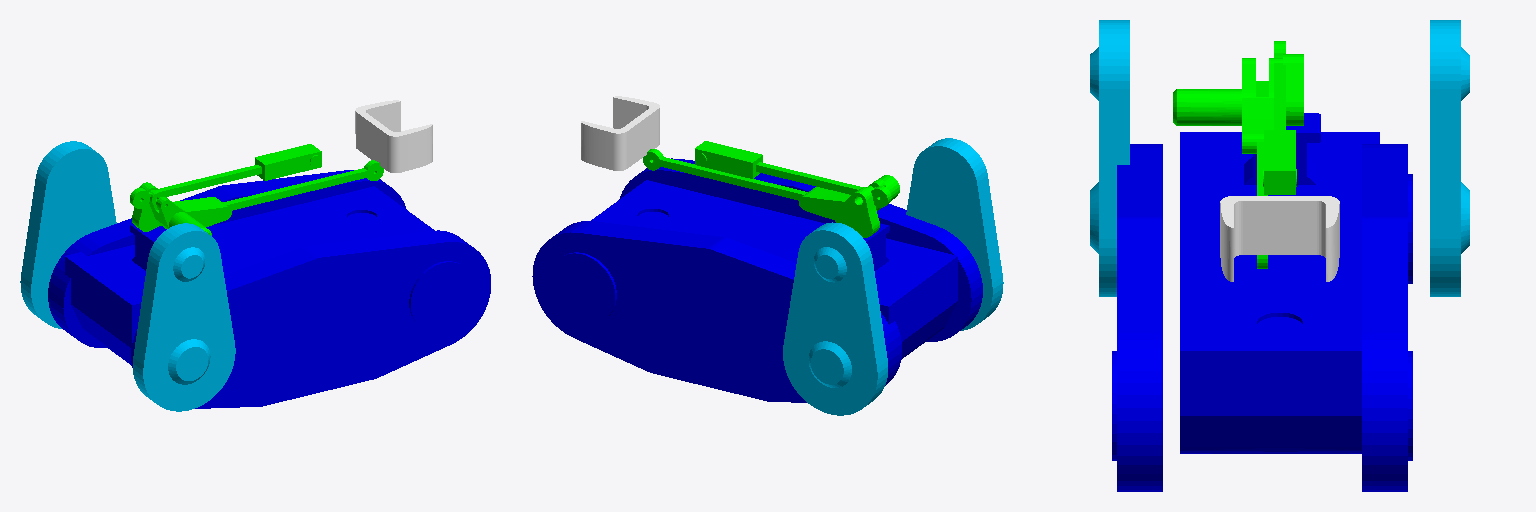
URDF robot description (rescue):
<?xml version="1.0" ?>
<robot name="rescue">

<material name="body">
    <color rgba="0 0 1 1"/>
</material>
<material name="flipper">
    <color rgba="0 0.8 1 1"/>
</material>
<material name="arm">
    <color rgba="0 1 0 1"/>
</material>
<material name="wrist">
    <color rgba="1 1 0 1"/>
</material>
<material name="gripper">
    <color rgba="1 1 1 1"/>
</material>

<link name="base_link">
</link>
<joint name="body_offset" type="fixed">
    <parent link="base_link"/>
    <child link="main_body"/>
    <origin rpy="1.57075 0 0" xyz="-0.105 -0.17 0.15"/>
</joint>

<link name="main_body">
  <inertial>
    <origin rpy="0 0 0" xyz="0.1369947223925939 -0.021581774511420574 -0.14958294306540101"/>
    <mass value="125.39802798594614"/>
    <inertia ixx="0.710702" ixy="0.02898" ixz="-0.000172" iyy="3.591341" iyz="0.000124" izz="3.324467"/>
  </inertial>
  <visual>
    <origin rpy="0 0 0" xyz="0 0 0"/>
    <geometry>
        <mesh filename="package://state_publisher/meshes/base_link_m-binary.stl"/>
    </geometry>
    <material name="body"/>
  </visual>
  <collision>
    <origin rpy="0 0 0" xyz="0 0 0"/>
    <geometry>
        <mesh filename="package://state_publisher/meshes/base_link_m-binary.stl"/>
    </geometry>
  </collision>
</link>
<link name="right_belt_1">
  <inertial>
    <origin rpy="0 0 0" xyz="0.2274393279397699 -0.0023271884830684056 0.02560355466628348"/>
    <mass value="50.63722379743233"/>
    <inertia ixx="0.196333" ixy="-0.0" ixz="0.0" iyy="1.451152" iyz="-7.1e-05" izz="1.62557"/>
  </inertial>
  <visual>
    <origin rpy="0 0 0" xyz="0.088054 0.032677 0.040824"/>
    <geometry>
        <mesh filename="package://state_publisher/meshes/right_belt_1_m-binary.stl"/>
    </geometry>
    <material name="body"/>
  </visual>
  <collision>
    <origin rpy="0 0 0" xyz="0.088054 0.032677 0.040824"/>
    <geometry>
        <mesh filename="package://state_publisher/meshes/right_belt_1_m-binary.stl"/>
    </geometry>
  </collision>
</link>
<link name="left_belt_1">
  <inertial>
    <origin rpy="0 0 0" xyz="0.22743932793985763 -0.0023271884830684333 -0.025604262848056003"/>
    <mass value="50.637223797432235"/>
    <inertia ixx="0.196333" ixy="-0.0" ixz="-0.0" iyy="1.451152" iyz="7.1e-05" izz="1.62557"/>
  </inertial>
  <visual>
    <origin rpy="0 0 0" xyz="0.088054 0.032677 0.258325"/>
    <geometry>
        <mesh filename="package://state_publisher/meshes/left_belt_1_m-binary.stl"/>
    </geometry>
    <material name="body"/>
  </visual>
  <collision>
    <origin rpy="0 0 0" xyz="0.088054 0.032677 0.258325"/>
    <geometry>
        <mesh filename="package://state_publisher/meshes/left_belt_1_m-binary.stl"/>
    </geometry>
  </collision>
</link>
<link name="flipper_rear_right_1">
  <inertial>
    <origin rpy="0 0 0" xyz="3.2778283322321133e-07 0.06327871028916665 0.01769212212798793"/>
    <mass value="11.639210054919547"/>
    <inertia ixx="0.081135" ixy="-0.0" ixz="-0.0" iyy="0.020636" iyz="3.3e-05" izz="0.099255"/>
  </inertial>
  <visual>
    <origin rpy="0 0 0" xyz="0.088054 0.032677 -0.014176"/>
    <geometry>
        <mesh filename="package://state_publisher/meshes/flipper_rear_right_1_m-binary.stl"/>
    </geometry>
    <material name="flipper"/>
  </visual>
  <collision>
    <origin rpy="0 0 0" xyz="0.088054 0.032677 -0.014176"/>
    <geometry>
        <mesh filename="package://state_publisher/meshes/flipper_rear_right_1_m-binary.stl"/>
    </geometry>
  </collision>
</link>
<link name="flipper_front_right_1">
  <inertial>
    <origin rpy="0 0 0" xyz="3.2778284914103395e-07 0.06327871028916543 0.017692122127987514"/>
    <mass value="11.639210054919547"/>
    <inertia ixx="0.081135" ixy="-0.0" ixz="-0.0" iyy="0.020636" iyz="3.3e-05" izz="0.099255"/>
  </inertial>
  <visual>
    <origin rpy="0 0 0" xyz="-0.366824 0.032677 -0.014176"/>
    <geometry>
        <mesh filename="package://state_publisher/meshes/flipper_front_right_1_m-binary.stl"/>
    </geometry>
    <material name="flipper"/>
  </visual>
  <collision>
    <origin rpy="0 0 0" xyz="-0.366824 0.032677 -0.014176"/>
    <geometry>
        <mesh filename="package://state_publisher/meshes/flipper_front_right_1_m-binary.stl"/>
    </geometry>
  </collision>
</link>
<link name="flipper_rear_left_1">
  <inertial>
    <origin rpy="0 0 0" xyz="3.2778283412526754e-07 0.0632787102891666 -0.017692830309759933"/>
    <mass value="11.639210054919547"/>
    <inertia ixx="0.081135" ixy="-0.0" ixz="0.0" iyy="0.020636" iyz="-3.3e-05" izz="0.099255"/>
  </inertial>
  <visual>
    <origin rpy="0 0 0" xyz="0.088054 0.032677 0.313325"/>
    <geometry>
        <mesh filename="package://state_publisher/meshes/flipper_rear_left_1_m-binary.stl"/>
    </geometry>
    <material name="flipper"/>
  </visual>
  <collision>
    <origin rpy="0 0 0" xyz="0.088054 0.032677 0.313325"/>
    <geometry>
        <mesh filename="package://state_publisher/meshes/flipper_rear_left_1_m-binary.stl"/>
    </geometry>
  </collision>
</link>
<link name="flipper_front_left_1">
  <inertial>
    <origin rpy="0 0 0" xyz="3.277828503622793e-07 0.06327871028916549 -0.017692830309760266"/>
    <mass value="11.639210054919547"/>
    <inertia ixx="0.081135" ixy="-0.0" ixz="-0.0" iyy="0.020636" iyz="-3.3e-05" izz="0.099255"/>
  </inertial>
  <visual>
    <origin rpy="0 0 0" xyz="-0.366824 0.032677 0.313325"/>
    <geometry>
        <mesh filename="package://state_publisher/meshes/flipper_front_left_1_m-binary.stl"/>
    </geometry>
    <material name="flipper"/>
  </visual>
  <collision>
    <origin rpy="0 0 0" xyz="-0.366824 0.032677 0.313325"/>
    <geometry>
        <mesh filename="package://state_publisher/meshes/flipper_front_left_1_m-binary.stl"/>
    </geometry>
  </collision>
</link>
<link name="arm_base_1">
  <inertial>
    <origin rpy="0 0 0" xyz="0.001525222896111067 0.03697199468806295 -0.009123346610961841"/>
    <mass value="9.318674950833845"/>
    <inertia ixx="0.020384" ixy="-0.000132" ixz="-0.000105" iyy="0.026478" iyz="-4.7e-05" izz="0.017031"/>
  </inertial>
  <visual>
    <origin rpy="0 0 0" xyz="-0.346824 -0.044823 0.149575"/>
    <geometry>
        <mesh filename="package://state_publisher/meshes/arm_base_1_m-binary.stl"/>
    </geometry>
    <material name="arm"/>
  </visual>
  <collision>
    <origin rpy="0 0 0" xyz="-0.346824 -0.044823 0.149575"/>
    <geometry>
        <mesh filename="package://state_publisher/meshes/arm_base_1_m-binary.stl"/>
    </geometry>
  </collision>
</link>
<link name="arm_lower_1">
  <inertial>
    <origin rpy="0 0 0" xyz="-0.3351498947929346 0.004913256877447342 0.012839753617028188"/>
    <mass value="3.211993258458033"/>
    <inertia ixx="0.004374" ixy="0.00084" ixz="0.000477" iyy="0.029637" iyz="0.000198" izz="0.026449"/>
  </inertial>
  <visual>
    <origin rpy="0 0 0" xyz="-0.332393 -0.133016 0.155575"/>
    <geometry>
        <mesh filename="package://state_publisher/meshes/arm_lower_1_m-binary.stl"/>
    </geometry>
    <material name="arm"/>
  </visual>
  <collision>
    <origin rpy="0 0 0" xyz="-0.332393 -0.133016 0.155575"/>
    <geometry>
        <mesh filename="package://state_publisher/meshes/arm_lower_1_m-binary.stl"/>
    </geometry>
  </collision>
</link>
<link name="arm_upper_1">
  <inertial>
    <origin rpy="0 0 0" xyz="0.22451229866972153 1.2826183065084429e-05 0.006000145475138247"/>
    <mass value="1.1170241298535344"/>
    <inertia ixx="0.000146" ixy="0.0" ixz="-0.0" iyy="0.010141" iyz="0.0" izz="0.01012"/>
  </inertial>
  <visual>
    <origin rpy="0 0 0" xyz="0.06563 -0.172839 0.155575"/>
    <geometry>
        <mesh filename="package://state_publisher/meshes/arm_upper_1_m-binary.stl"/>
    </geometry>
    <material name="arm"/>
  </visual>
  <collision>
    <origin rpy="0 0 0" xyz="0.06563 -0.172839 0.155575"/>
    <geometry>
        <mesh filename="package://state_publisher/meshes/arm_upper_1_m-binary.stl"/>
    </geometry>
  </collision>
</link>
<link name="wrist_yaw_1">
  <inertial>
    <origin rpy="0 0 0" xyz="0.044415907076879035 4.603974835148961e-05 0.019000145475138813"/>
    <mass value="0.5097860192503678"/>
    <inertia ixx="0.000112" ixy="-0.0" ixz="-0.0" iyy="0.000264" iyz="0.0" izz="0.000208"/>
  </inertial>
  <visual>
    <origin rpy="0 0 0" xyz="-0.25005 -0.172881 0.168575"/>
    <geometry>
        <mesh filename="package://state_publisher/meshes/wrist_yaw_1_m-binary.stl"/>
    </geometry>
    <material name="wrist"/>
  </visual>
  <collision>
    <origin rpy="0 0 0" xyz="-0.25005 -0.172881 0.168575"/>
    <geometry>
        <mesh filename="package://state_publisher/meshes/wrist_yaw_1_m-binary.stl"/>
    </geometry>
  </collision>
</link>
<link name="wrist_pitch_1">
  <inertial>
    <origin rpy="0 0 0" xyz="0.03737396067285109 -0.00611105089439154 1.454751508700447e-07"/>
    <mass value="0.39341698942281567"/>
    <inertia ixx="0.000118" ixy="-1.1e-05" ixz="-0.0" iyy="9.8e-05" iyz="0.0" izz="0.000176"/>
  </inertial>
  <visual>
    <origin rpy="0 0 0" xyz="-0.306585 -0.18744 0.149575"/>
    <geometry>
        <mesh filename="package://state_publisher/meshes/wrist_pitch_1_m-binary.stl"/>
    </geometry>
    <material name="wrist"/>
  </visual>
  <collision>
    <origin rpy="0 0 0" xyz="-0.306585 -0.18744 0.149575"/>
    <geometry>
        <mesh filename="package://state_publisher/meshes/wrist_pitch_1_m-binary.stl"/>
    </geometry>
  </collision>
</link>
<link name="gripper_1">
  <inertial>
    <origin rpy="0 0 0" xyz="0.02583352563736202 2.6583970817339875e-05 4.924067290301704e-07"/>
    <mass value="1.7001261051527197"/>
    <inertia ixx="0.004444" ixy="-0.0" ixz="-0.0" iyy="0.004742" iyz="-0.0" izz="0.001496"/>
  </inertial>
  <visual>
    <origin rpy="0 0 0" xyz="-0.3656 -0.173002 0.149575"/>
    <geometry>
        <mesh filename="package://state_publisher/meshes/gripper_1_m-binary.stl"/>
    </geometry>
    <material name="gripper"/>
  </visual>
  <collision>
    <origin rpy="0 0 0" xyz="-0.3656 -0.173002 0.149575"/>
    <geometry>
        <mesh filename="package://state_publisher/meshes/gripper_1_m-binary.stl"/>
    </geometry>
  </collision>
</link>
<joint name="Rigid1" type="fixed">
  <origin rpy="0 0 0" xyz="-0.088054 -0.032677 -0.040824"/>
  <parent link="main_body"/>
  <child link="right_belt_1"/>
</joint>
<transmission name="Rigid1_tran">
  <type>transmission_interface/SimpleTransmission</type>
  <joint name="Rigid1">
    <hardwareInterface>PositionJointInterface</hardwareInterface>
  </joint>
  <actuator name="Rigid1_actr">
    <hardwareInterface>PositionJointInterface</hardwareInterface>
    <mechanicalReduction>1</mechanicalReduction>
  </actuator>
</transmission>
<joint name="Rigid2" type="fixed">
  <origin rpy="0 0 0" xyz="-0.088054 -0.032677 -0.258325"/>
  <parent link="main_body"/>
  <child link="left_belt_1"/>
</joint>
<transmission name="Rigid2_tran">
  <type>transmission_interface/SimpleTransmission</type>
  <joint name="Rigid2">
    <hardwareInterface>PositionJointInterface</hardwareInterface>
  </joint>
  <actuator name="Rigid2_actr">
    <hardwareInterface>PositionJointInterface</hardwareInterface>
    <mechanicalReduction>1</mechanicalReduction>
  </actuator>
</transmission>
<joint name="flippers_rear" type="revolute">
  <origin rpy="0 0 0" xyz="0.0 0.0 0.055"/>
  <parent link="right_belt_1"/>
  <child link="flipper_rear_right_1"/>
  <axis xyz="0.0 0.0 0.01"/>
  <limit effort="100" lower="-1.570796" upper="3.316126" velocity="100"/>
</joint>
<transmission name="flippers_rear_tran">
  <type>transmission_interface/SimpleTransmission</type>
  <joint name="flippers_rear">
    <hardwareInterface>PositionJointInterface</hardwareInterface>
  </joint>
  <actuator name="flippers_rear_actr">
    <hardwareInterface>PositionJointInterface</hardwareInterface>
    <mechanicalReduction>1</mechanicalReduction>
  </actuator>
</transmission>
<joint name="flippers_front" type="revolute">
  <origin rpy="0 0 0" xyz="0.454878 0.0 0.055"/>
  <parent link="right_belt_1"/>
  <child link="flipper_front_right_1"/>
  <axis xyz="0.0 0.0 0.01"/>
  <limit effort="100" lower="-3.316126" upper="1.570796" velocity="100"/>
</joint>
<transmission name="flippers_front_tran">
  <type>transmission_interface/SimpleTransmission</type>
  <joint name="flippers_front">
    <hardwareInterface>PositionJointInterface</hardwareInterface>
  </joint>
  <actuator name="flippers_front_actr">
    <hardwareInterface>PositionJointInterface</hardwareInterface>
    <mechanicalReduction>1</mechanicalReduction>
  </actuator>
</transmission>
<joint name="Rigid5" type="fixed">
  <origin rpy="0 0 0" xyz="0.0 0.0 -0.327501"/>
  <parent link="flipper_rear_right_1"/>
  <child link="flipper_rear_left_1"/>
</joint>
<transmission name="Rigid5_tran">
  <type>transmission_interface/SimpleTransmission</type>
  <joint name="Rigid5">
    <hardwareInterface>PositionJointInterface</hardwareInterface>
  </joint>
  <actuator name="Rigid5_actr">
    <hardwareInterface>PositionJointInterface</hardwareInterface>
    <mechanicalReduction>1</mechanicalReduction>
  </actuator>
</transmission>
<joint name="Rigid6" type="fixed">
  <origin rpy="0 0 0" xyz="0.0 0.0 -0.327501"/>
  <parent link="flipper_front_right_1"/>
  <child link="flipper_front_left_1"/>
</joint>
<transmission name="Rigid6_tran">
  <type>transmission_interface/SimpleTransmission</type>
  <joint name="Rigid6">
    <hardwareInterface>PositionJointInterface</hardwareInterface>
  </joint>
  <actuator name="Rigid6_actr">
    <hardwareInterface>PositionJointInterface</hardwareInterface>
    <mechanicalReduction>1</mechanicalReduction>
  </actuator>
</transmission>
<joint name="arm1" type="revolute">
  <origin rpy="0 0 0" xyz="0.346824 0.044823 -0.149575"/>
  <parent link="main_body"/>
  <child link="arm_base_1"/>
  <axis xyz="-0.0 -0.01 -0.0"/>
  <limit effort="100" lower="-2.356194" upper="2.356194" velocity="100"/>
</joint>
<transmission name="arm1_tran">
  <type>transmission_interface/SimpleTransmission</type>
  <joint name="arm1">
    <hardwareInterface>PositionJointInterface</hardwareInterface>
  </joint>
  <actuator name="arm1_actr">
    <hardwareInterface>PositionJointInterface</hardwareInterface>
    <mechanicalReduction>1</mechanicalReduction>
  </actuator>
</transmission>
<joint name="arm2" type="revolute">
  <origin rpy="0 0 0" xyz="-0.014431 0.088193 -0.006"/>
  <parent link="arm_base_1"/>
  <child link="arm_lower_1"/>
  <axis xyz="0.0 0.0 0.01"/>
  <limit effort="100" lower="-3.141593" upper="0.0" velocity="100"/>
</joint>
<transmission name="arm2_tran">
  <type>transmission_interface/SimpleTransmission</type>
  <joint name="arm2">
    <hardwareInterface>PositionJointInterface</hardwareInterface>
  </joint>
  <actuator name="arm2_actr">
    <hardwareInterface>PositionJointInterface</hardwareInterface>
    <mechanicalReduction>1</mechanicalReduction>
  </actuator>
</transmission>
<joint name="arm3" type="revolute">
  <origin rpy="0 0 0" xyz="-0.398023 0.039823 0.0"/>
  <parent link="arm_lower_1"/>
  <child link="arm_upper_1"/>
  <axis xyz="0.0 -0.0 0.01"/>
  <limit effort="100" lower="0.0" upper="3.141593" velocity="100"/>
</joint>
<transmission name="arm3_tran">
  <type>transmission_interface/SimpleTransmission</type>
  <joint name="arm3">
    <hardwareInterface>PositionJointInterface</hardwareInterface>
  </joint>
  <actuator name="arm3_actr">
    <hardwareInterface>PositionJointInterface</hardwareInterface>
    <mechanicalReduction>1</mechanicalReduction>
  </actuator>
</transmission>
<joint name="wrist1" type="continuous">
  <origin rpy="0 0 0" xyz="0.31568 4.2e-05 -0.013"/>
  <parent link="arm_upper_1"/>
  <child link="wrist_yaw_1"/>
  <axis xyz="0.0 0.0 0.01"/>
</joint>
<transmission name="wrist1_tran">
  <type>transmission_interface/SimpleTransmission</type>
  <joint name="wrist1">
    <hardwareInterface>PositionJointInterface</hardwareInterface>
  </joint>
  <actuator name="wrist1_actr">
    <hardwareInterface>PositionJointInterface</hardwareInterface>
    <mechanicalReduction>1</mechanicalReduction>
  </actuator>
</transmission>
<joint name="wrist2" type="continuous">
  <origin rpy="0 0 0" xyz="0.056535 0.014559 0.019"/>
  <parent link="wrist_yaw_1"/>
  <child link="wrist_pitch_1"/>
  <axis xyz="1e-05 -0.01 -0.0"/>
</joint>
<transmission name="wrist2_tran">
  <type>transmission_interface/SimpleTransmission</type>
  <joint name="wrist2">
    <hardwareInterface>PositionJointInterface</hardwareInterface>
  </joint>
  <actuator name="wrist2_actr">
    <hardwareInterface>PositionJointInterface</hardwareInterface>
    <mechanicalReduction>1</mechanicalReduction>
  </actuator>
</transmission>
<joint name="wrist3" type="continuous">
  <origin rpy="0 0 0" xyz="0.059015 -0.014438 0.0"/>
  <parent link="wrist_pitch_1"/>
  <child link="gripper_1"/>
  <axis xyz="0.01 1e-05 -0.0"/>
</joint>
<transmission name="wrist3_tran">
  <type>transmission_interface/SimpleTransmission</type>
  <joint name="wrist3">
    <hardwareInterface>PositionJointInterface</hardwareInterface>
  </joint>
  <actuator name="wrist3_actr">
    <hardwareInterface>PositionJointInterface</hardwareInterface>
    <mechanicalReduction>1</mechanicalReduction>
  </actuator>
</transmission>
<gazebo>
  <plugin filename="libgazebo_ros_control.so" name="control"/>
</gazebo>
</robot>

--- Facts derived from the render (not from the file) ---
The picture shows the robot from 3 angles, left to right: view 1: azimuth 30°, elevation 25°; view 2: azimuth 150°, elevation 25°; view 3: azimuth 270°, elevation 25°; orthographic projection.
Robot: rescue — 14 links, 13 joints (5 revolute, 3 continuous, 5 fixed); root link base_link; default pose: all joints at 0.
Links seen in each view (by area): view 1: right_belt_1, main_body, flipper_rear_right_1, flipper_rear_left_1, left_belt_1, arm_lower_1, gripper_1, arm_upper_1; view 2: left_belt_1, flipper_rear_left_1, main_body, flipper_rear_right_1, right_belt_1, arm_lower_1, gripper_1, arm_upper_1; view 3: main_body, left_belt_1, right_belt_1, flipper_rear_left_1, flipper_rear_right_1, gripper_1, arm_lower_1, arm_upper_1.
Link boxes in pixels (<box>): right_belt_1: <box>131,230,490,408</box>; main_body: <box>65,186,434,365</box>; flipper_rear_right_1: <box>133,223,235,411</box>; flipper_rear_left_1: <box>20,141,116,328</box>; left_belt_1: <box>48,170,406,347</box>; arm_lower_1: <box>132,160,383,235</box>; gripper_1: <box>355,100,432,172</box>; arm_upper_1: <box>130,144,321,208</box>; left_belt_1: <box>532,221,901,402</box>; flipper_rear_left_1: <box>783,222,887,415</box>; main_body: <box>591,180,957,358</box>; flipper_rear_right_1: <box>906,138,1003,330</box>; right_belt_1: <box>619,158,982,341</box>; arm_lower_1: <box>643,149,899,237</box>; gripper_1: <box>581,96,659,170</box>; arm_upper_1: <box>695,141,891,207</box>; main_body: <box>1180,113,1379,453</box>; left_belt_1: <box>1362,144,1412,491</box>; right_belt_1: <box>1112,144,1162,491</box>; flipper_rear_left_1: <box>1430,20,1469,296</box>; flipper_rear_right_1: <box>1090,20,1129,296</box>; gripper_1: <box>1220,196,1339,281</box>; arm_lower_1: <box>1173,54,1303,268</box>; arm_upper_1: <box>1263,41,1296,194</box>.
Bounding box of the posed robot: 0.6591 × 0.4141 × 0.3598 m (x, y, z).
Meshes: 13 distinct files referenced, 8 mesh visuals loaded (8 binary STL); not drawn: 5 (reference not matched to a file when rendering).